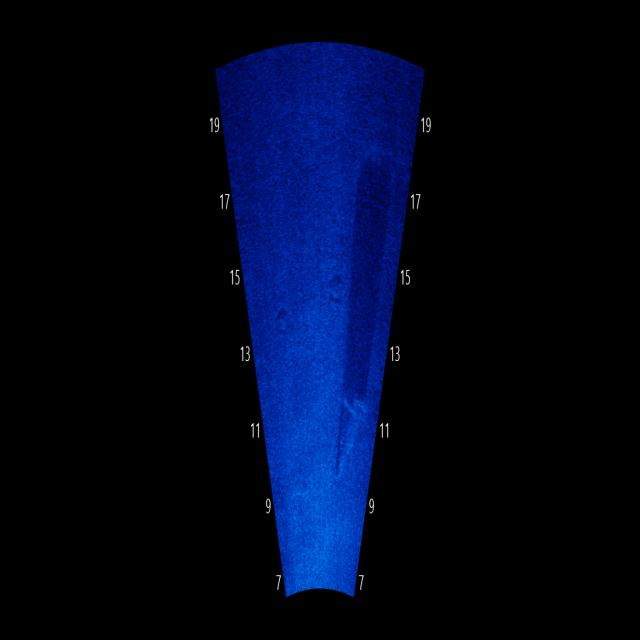triangle: (331, 373, 368, 477)
